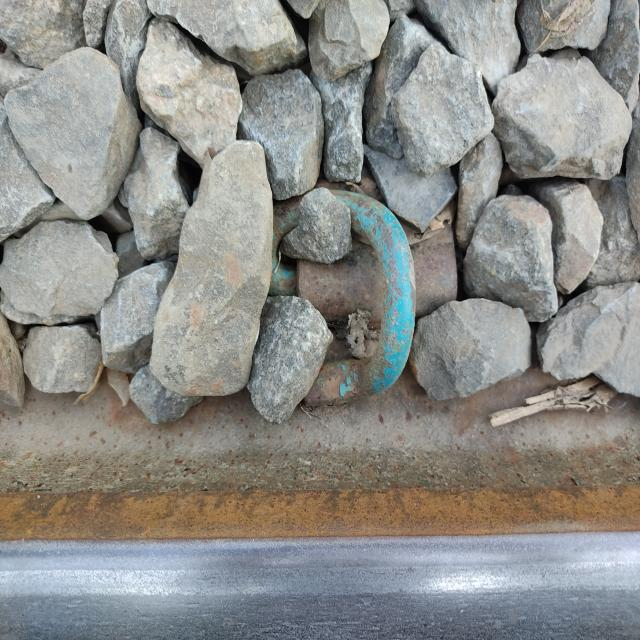non-defective: (234, 173, 506, 489)
